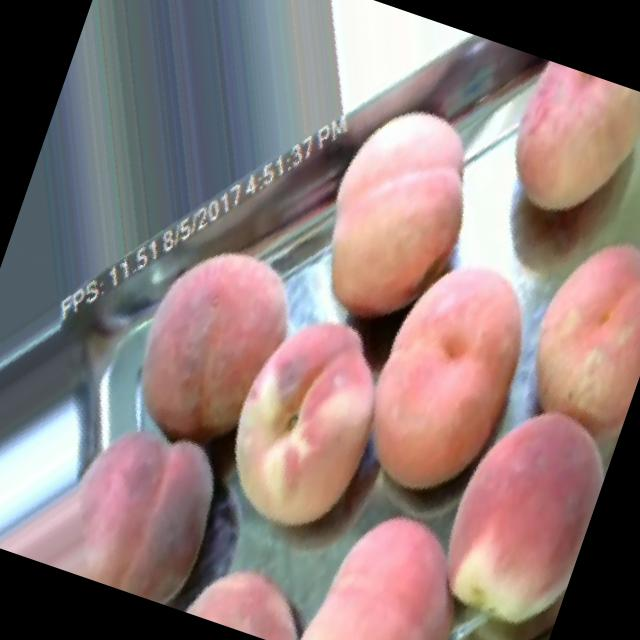Fruit: (263, 66, 520, 363), (196, 283, 434, 573), (92, 209, 330, 486), (0, 370, 259, 617), (338, 227, 550, 528), (397, 366, 625, 640), (486, 197, 640, 464), (282, 472, 517, 640), (460, 48, 640, 259), (171, 531, 324, 640)
